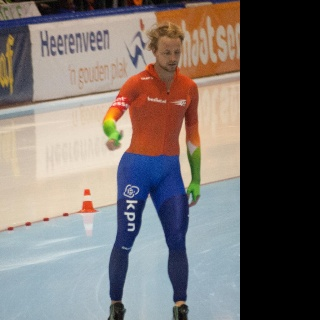without_mask: (145, 20, 185, 72)
